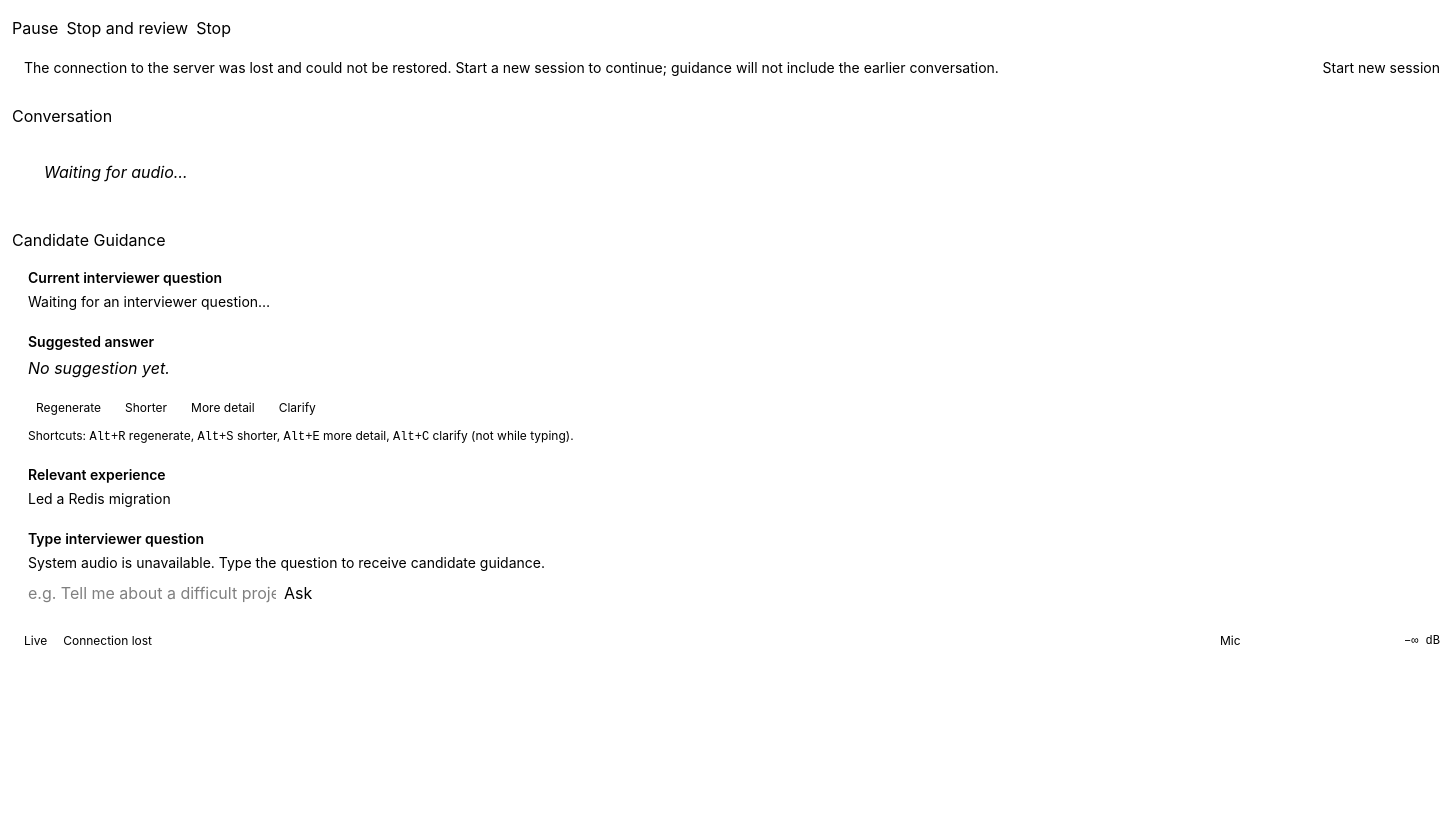
Test: shows Reconnecting… after a drop and offers a new session once reconnection gives up
This screenshot has width=1452, height=822.
Expected: the text "Connection lost" is shown, [63, 633, 152, 649]
Expected: the message shows "could not be restored", [24, 59, 999, 76]
Click the button "Start new session" at (1381, 68), box [1322, 52, 1440, 84]
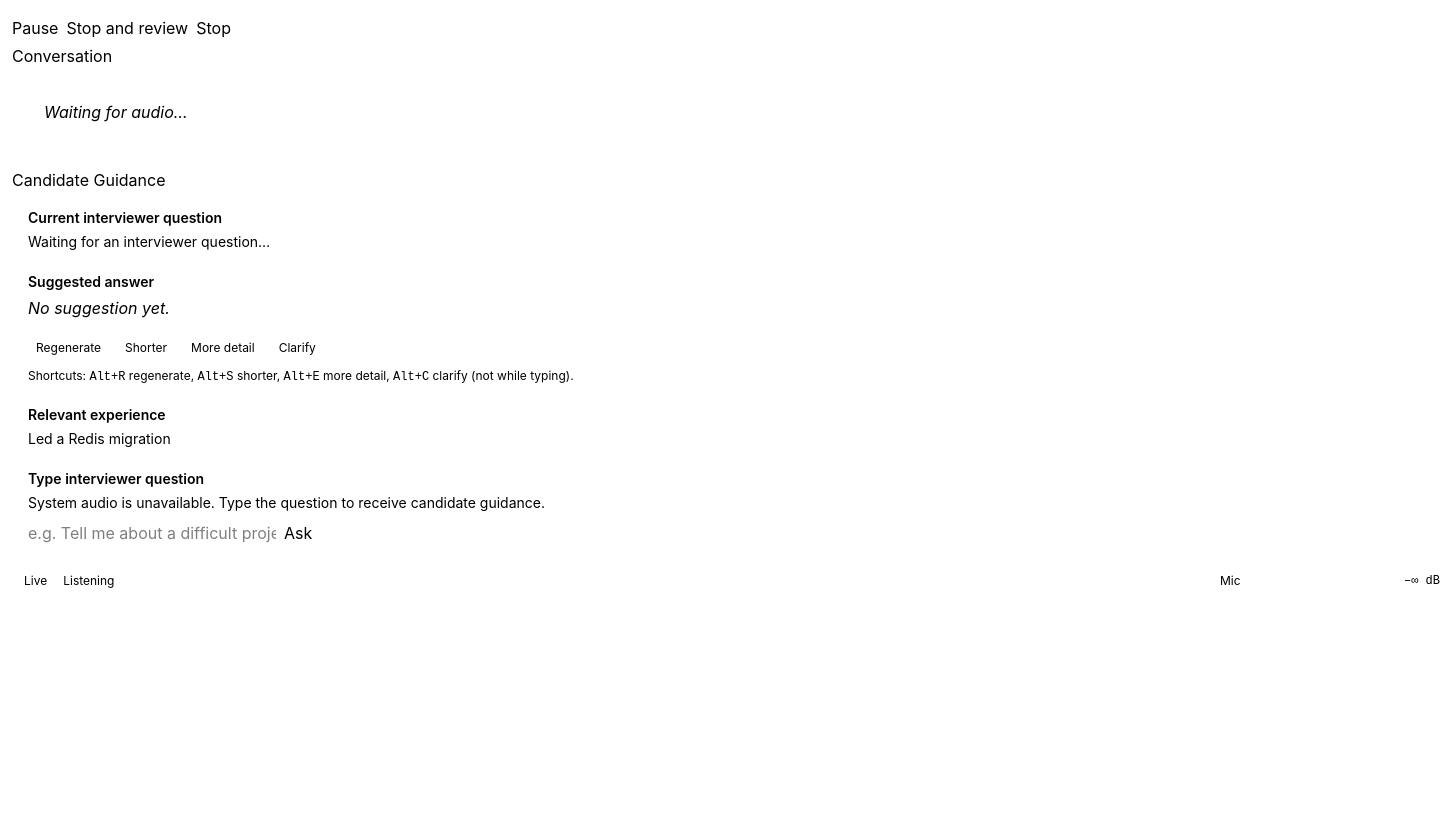
Now the button "Start new session" is gone
Now the text "Listening" is shown, box [63, 573, 114, 589]
